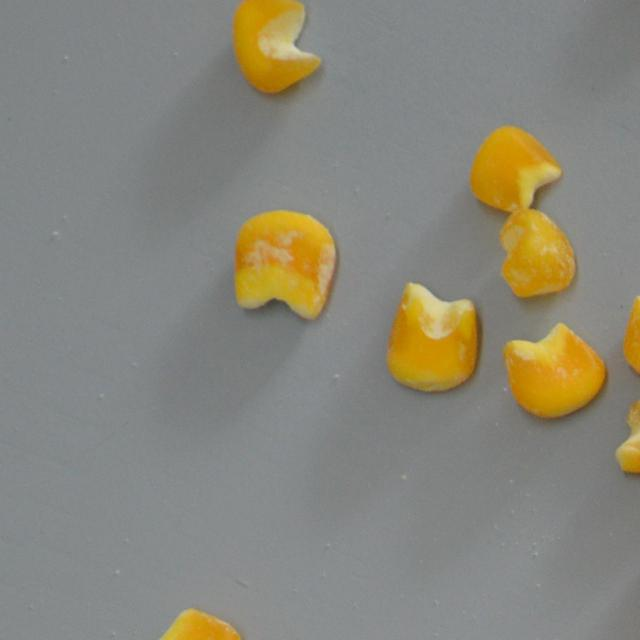no_canjicado: (386, 282, 478, 394), (503, 322, 608, 420), (231, 0, 320, 96), (470, 124, 562, 210)
pelicula: (233, 209, 338, 320), (498, 208, 576, 298), (134, 607, 243, 640), (612, 376, 640, 474), (621, 293, 640, 380)
